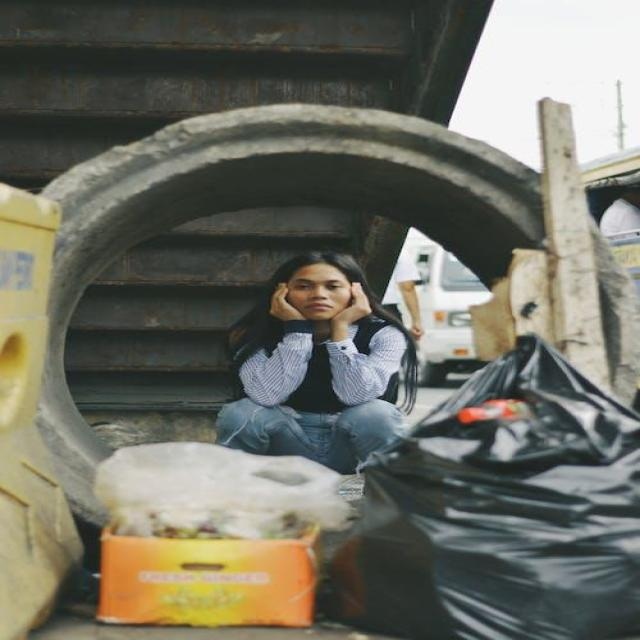cardboard: (82, 540, 328, 626)
plastic: (74, 426, 353, 533)
trash: (382, 338, 640, 638)
